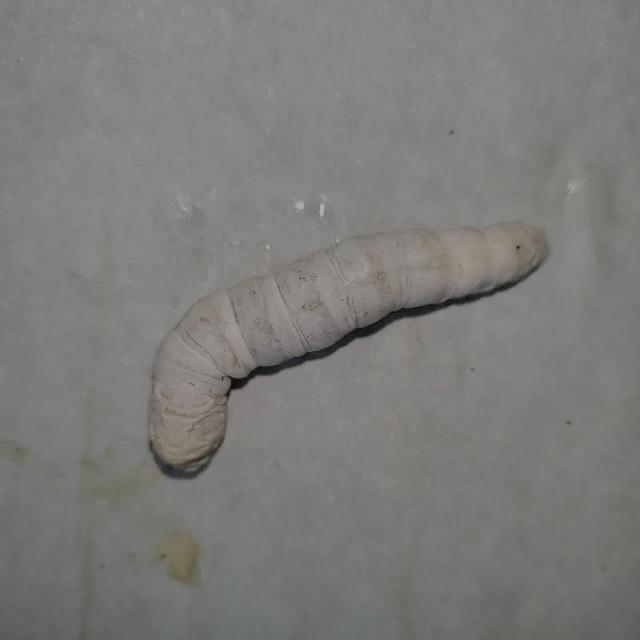Grasserie: (128, 186, 554, 521)
